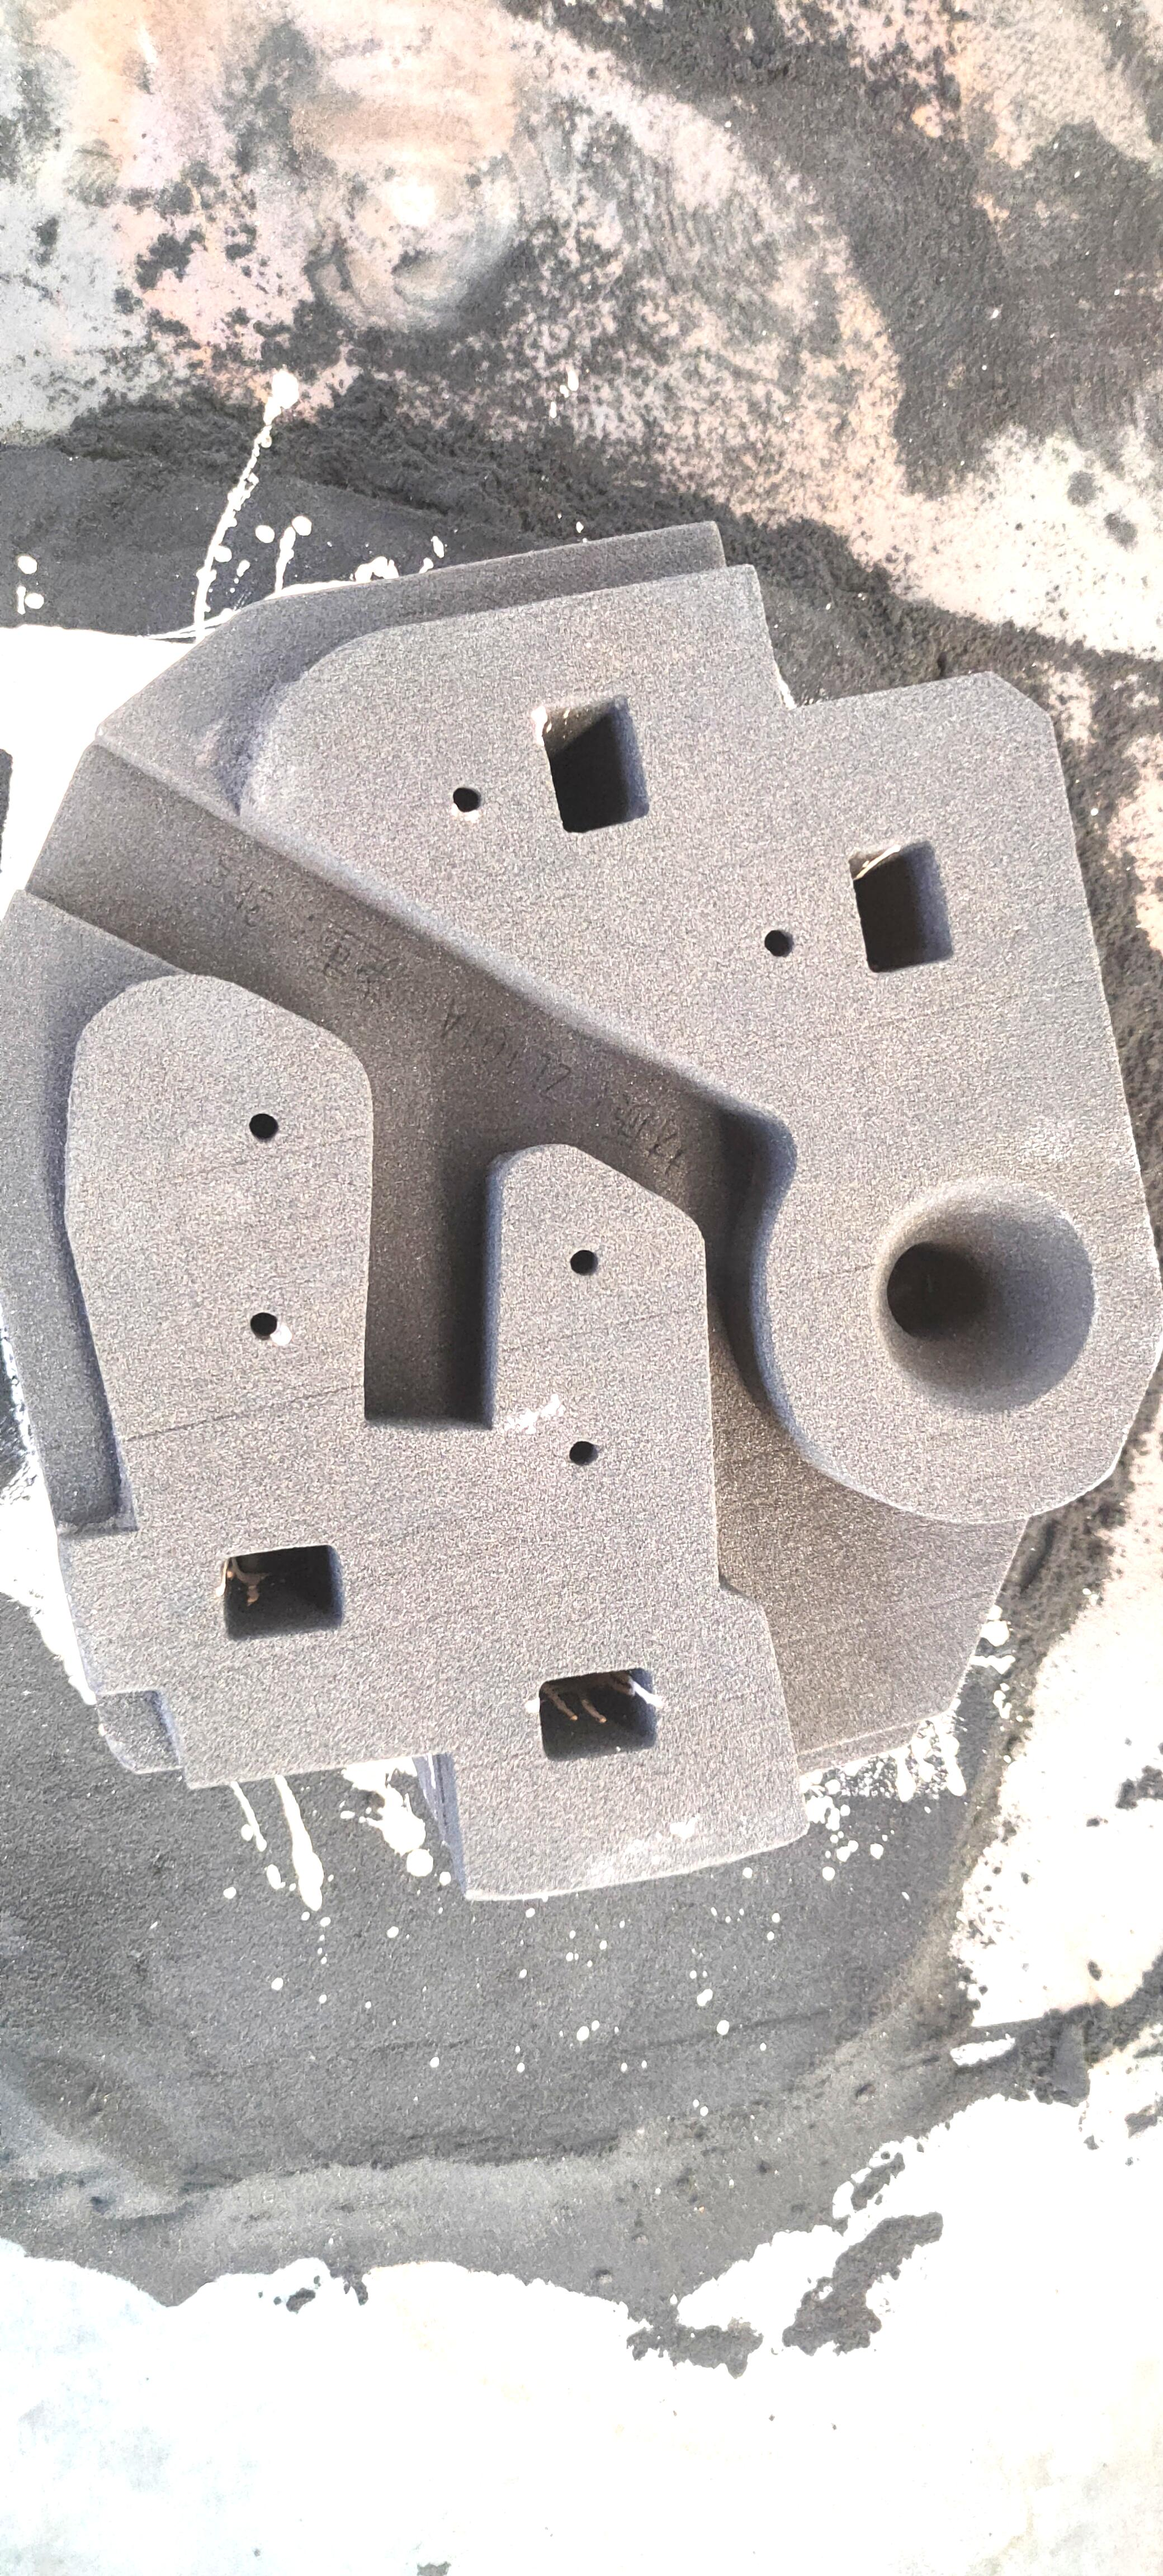pouring hole: (872, 1178, 1092, 1416)
